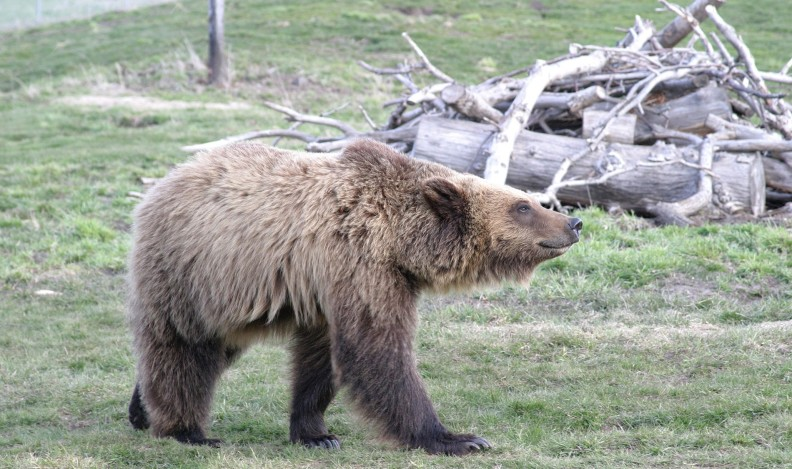bear: (425, 163, 589, 272)
